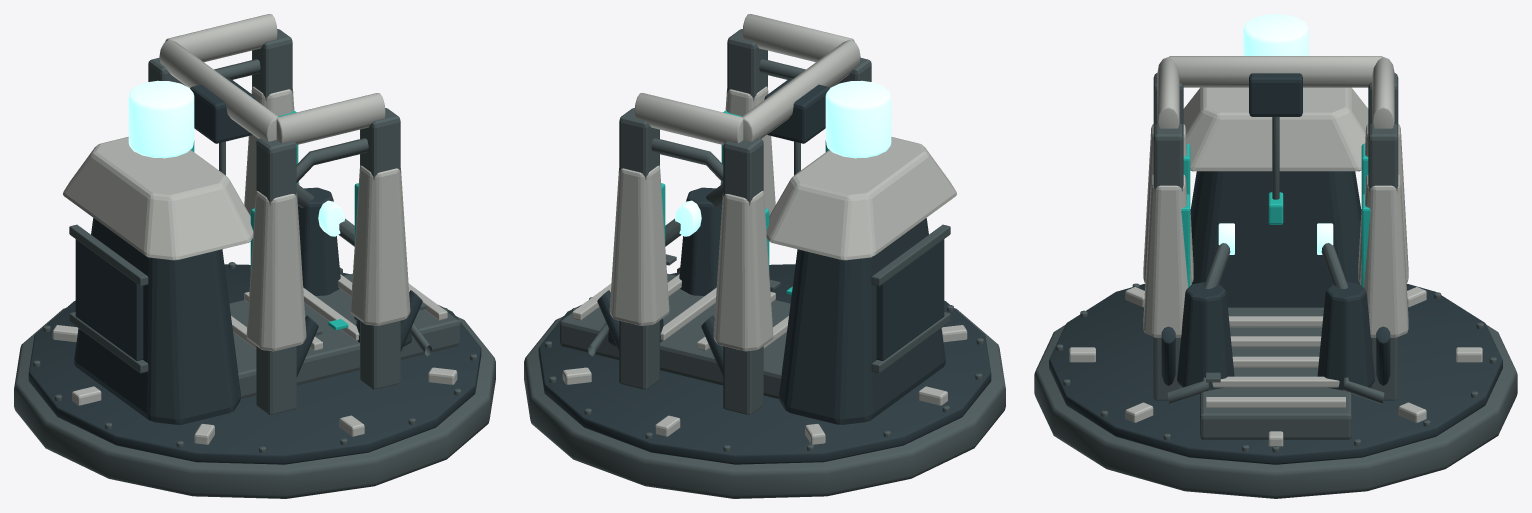
Rendered from SM_Crucible.fbx.
3 views of the same model, side by side, from view 1: azimuth 30°, elevation 25°; view 2: azimuth 150°, elevation 25°; view 3: azimuth 270°, elevation 25° (orthographic).
Visible parts, largest first — view 1: SM_Crucible; view 2: SM_Crucible; view 3: SM_Crucible.
Boxes of the visible parts, <box> form: SM_Crucible: <box>14,14,495,498</box>; SM_Crucible: <box>524,14,1005,498</box>; SM_Crucible: <box>1034,14,1517,498</box>.
Size of the model in its own units: 208 by 208 by 155.
